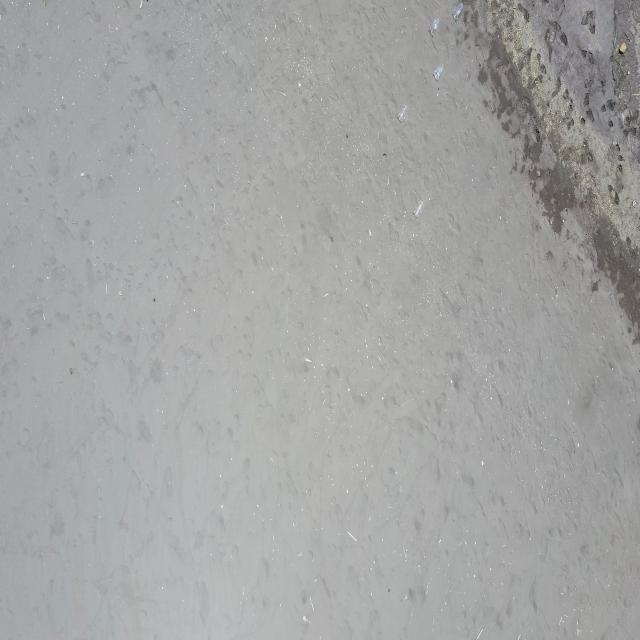Garbage: (428, 16, 439, 35), (396, 103, 407, 121), (432, 64, 443, 80), (452, 3, 463, 19), (413, 200, 423, 216), (617, 40, 627, 54)
